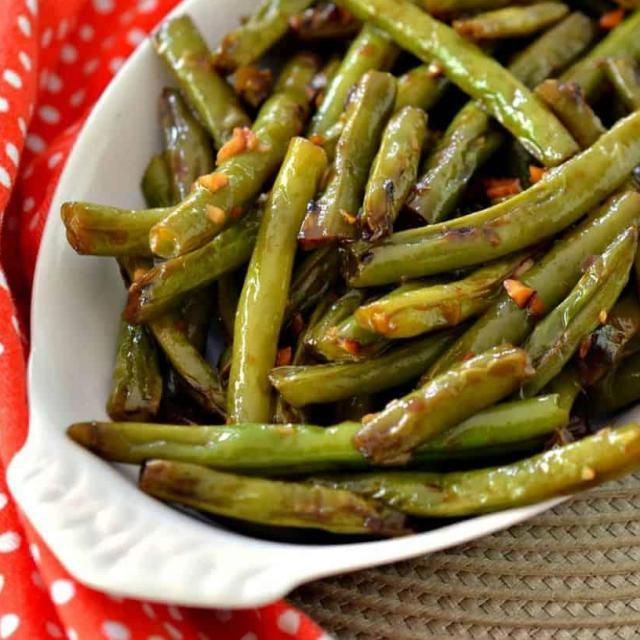Beans: (57, 0, 639, 566)
